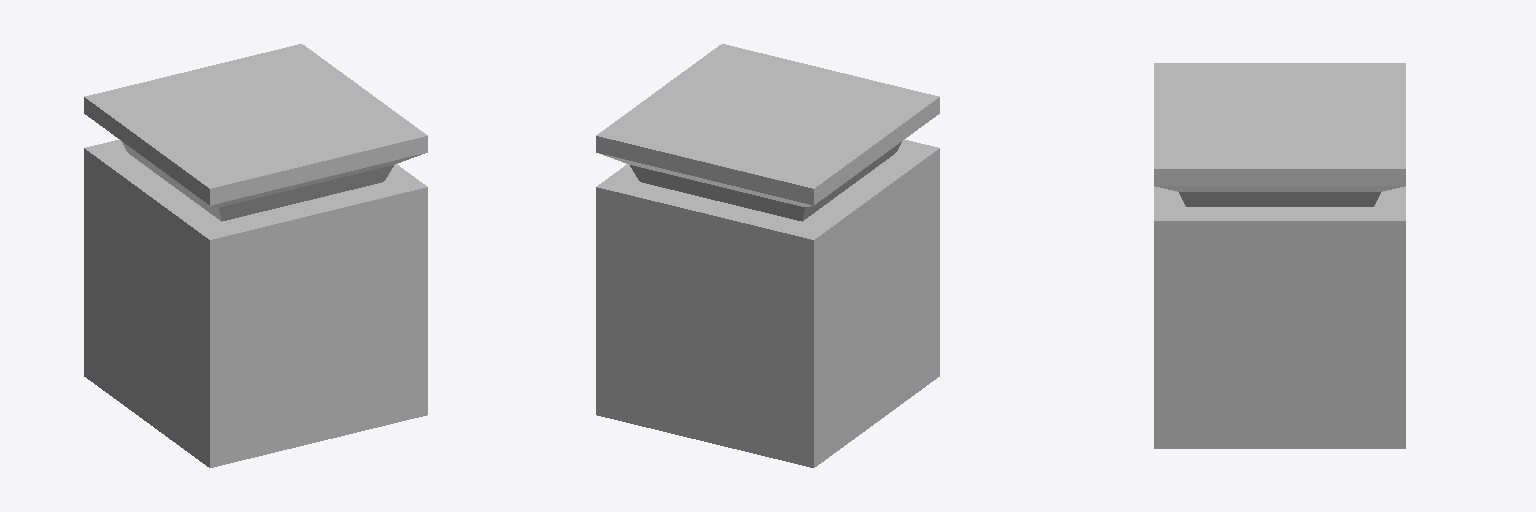
The model's file is AnimatedBox_000186.obj.
3 renders of one model, left to right at view 1: azimuth 30°, elevation 25°; view 2: azimuth 150°, elevation 25°; view 3: azimuth 270°, elevation 25°, orthographic.
Parts seen in each view (by area): view 1: Cube, Cube.001; view 2: Cube, Cube.001; view 3: Cube, Cube.001.
Part boxes in pixels (left/top/right/bottom): Cube: left=84, top=139, right=427, bottom=467; Cube.001: left=84, top=44, right=427, bottom=221; Cube: left=596, top=139, right=939, bottom=467; Cube.001: left=596, top=44, right=939, bottom=221; Cube: left=1154, top=186, right=1405, bottom=448; Cube.001: left=1154, top=63, right=1405, bottom=206.
Bounding box in the file's own units: 2 × 2.45 × 2.